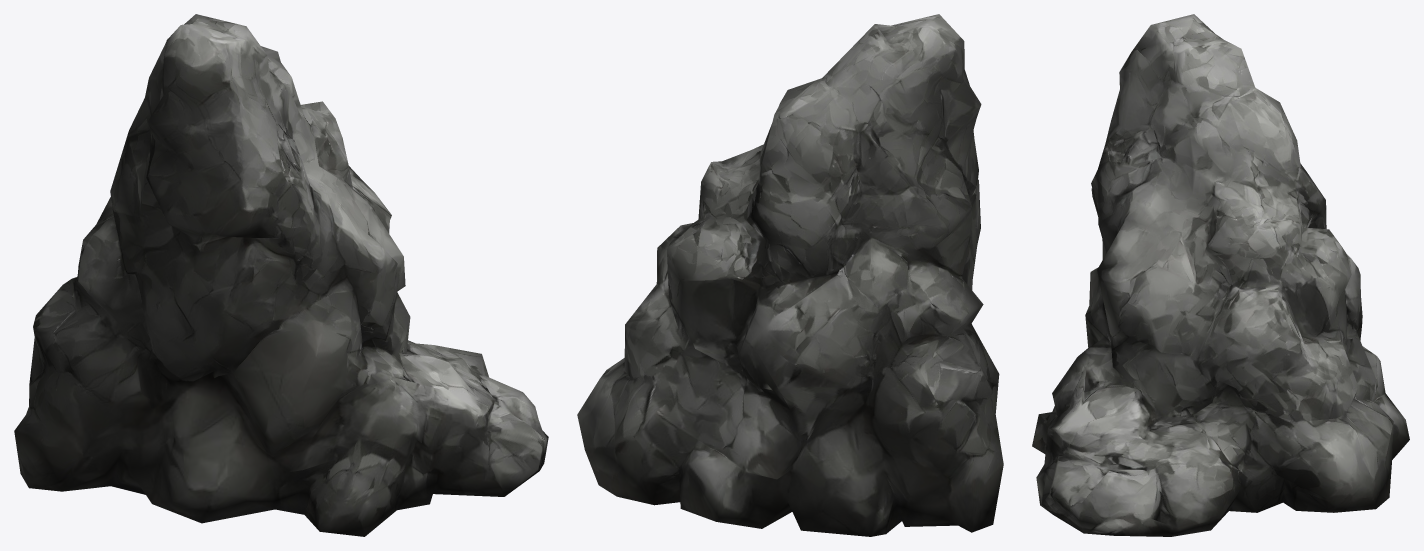
The model's file is roccia1.glb.
3 renders of one model, left to right at view 1: azimuth 30°, elevation 25°; view 2: azimuth 150°, elevation 25°; view 3: azimuth 270°, elevation 25°, orthographic. The views are drawn at different scales.
Visible parts, largest first — view 1: tripo_node_59e42058-1d9d-4e25-81a8-151ee6c0f185; view 2: tripo_node_59e42058-1d9d-4e25-81a8-151ee6c0f185; view 3: tripo_node_59e42058-1d9d-4e25-81a8-151ee6c0f185.
Boxes of the visible parts, x1=… form: tripo_node_59e42058-1d9d-4e25-81a8-151ee6c0f185: x1=14, y1=14, x2=548, y2=536; tripo_node_59e42058-1d9d-4e25-81a8-151ee6c0f185: x1=577, y1=14, x2=1003, y2=536; tripo_node_59e42058-1d9d-4e25-81a8-151ee6c0f185: x1=1032, y1=14, x2=1409, y2=536.
Bounding box in the file's own units: 0.9709 × 1 × 0.8614.
Materials: 1 (1 with a texture image).
